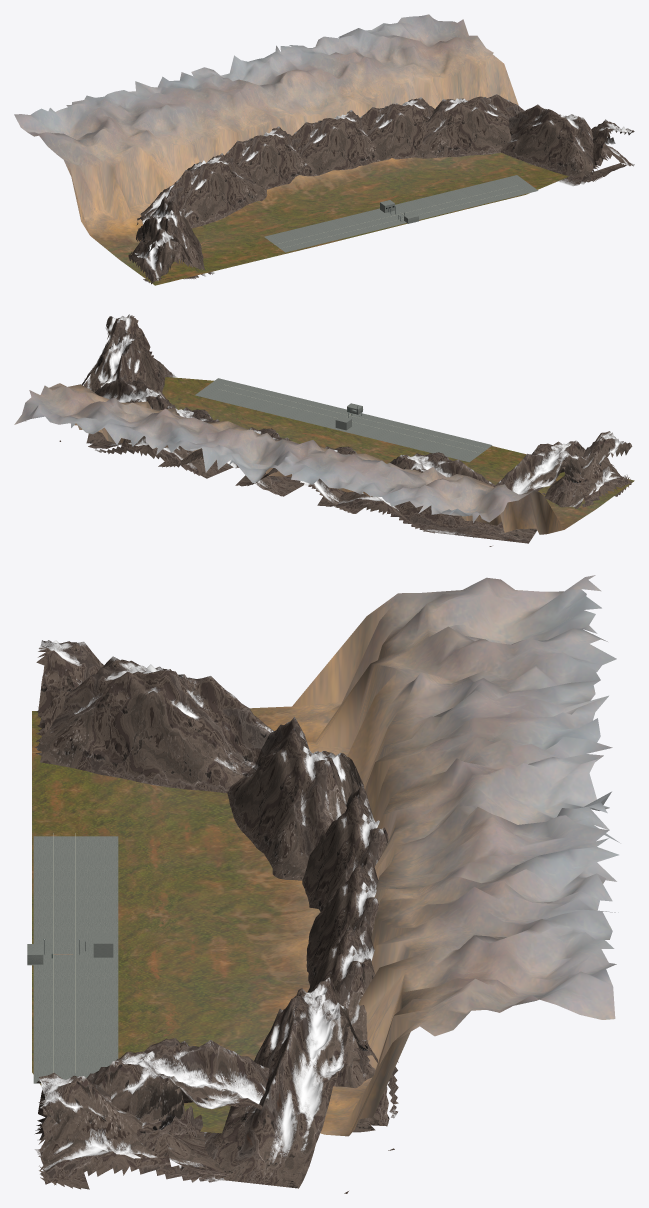
The model's file is cuarto.glb.
3 views of the same model, one above another, from view 1: azimuth 30°, elevation 25°; view 2: azimuth 150°, elevation 25°; view 3: azimuth 270°, elevation 25° (orthographic). The views are drawn at different scales.
Parts seen in each view (by area): view 1: terrain, Object_2.004, Object_2.002, Exterior | terreno, Object_2.001; view 2: terrain, Object_2.004, Exterior | terreno, Object_2.001, Object_2.002; view 3: terrain, Object_2.004, Object_2.001, Object_2.002, Exterior | terreno.
Boxes of the visible parts, x1,y1,x2,y2 form: terrain: (14,14,568,285); Object_2.004: (140,94,560,228); Object_2.002: (501,104,634,186); Exterior | terreno: (264,175,538,252); Object_2.001: (128,196,214,284); terrain: (14,377,634,534); Object_2.004: (25,377,537,543); Exterior | terreno: (195,378,492,462); Object_2.001: (473,431,632,546); Object_2.002: (59,314,176,445); terrain: (32,575,620,1136); Object_2.004: (179,717,398,1193); Object_2.001: (34,640,273,792); Object_2.002: (35,1038,394,1189); Exterior | terreno: (33,836,118,1083).
Size of the model in its own units: 284 by 42.26 by 151.
Materials: 16 (8 with a texture image).
